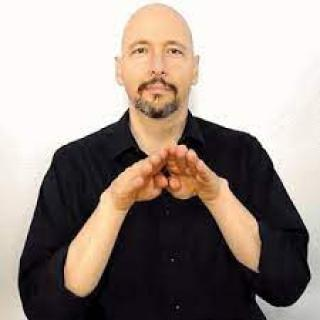House: (117, 135, 236, 215)
